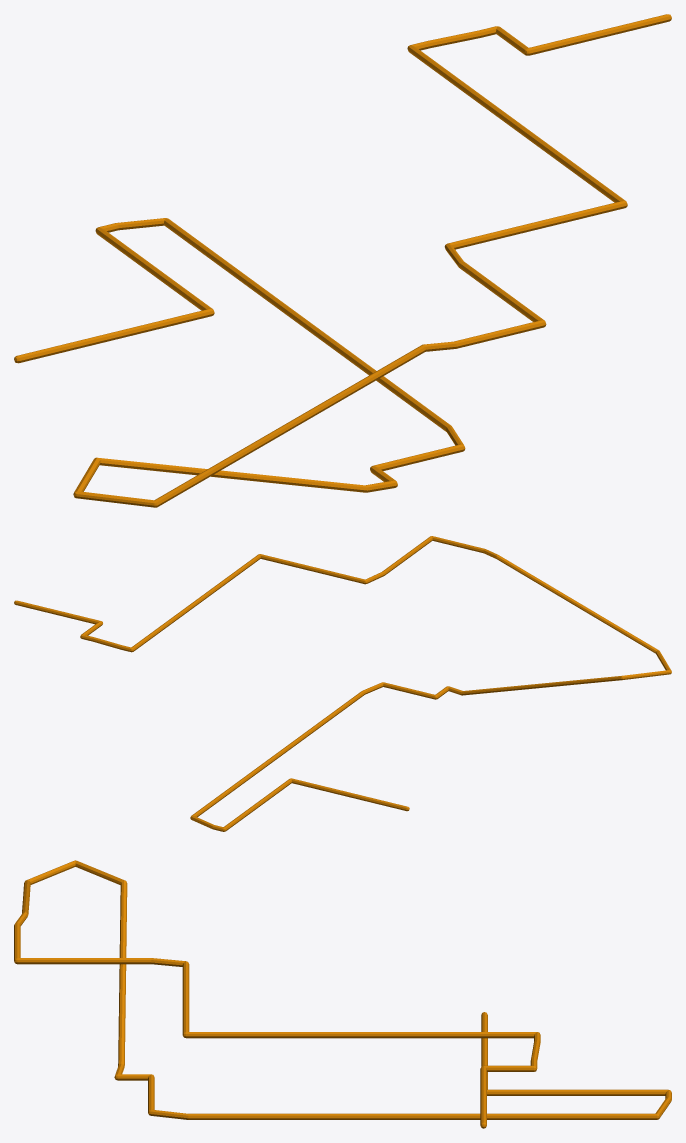
3 renders of one model, top to bottom at view 1: azimuth 30°, elevation 25°; view 2: azimuth 150°, elevation 25°; view 3: azimuth 270°, elevation 25°, orthographic. The views are drawn at different scales.
Bounding box in the file's own units: 2409 × 520 × 1966.
